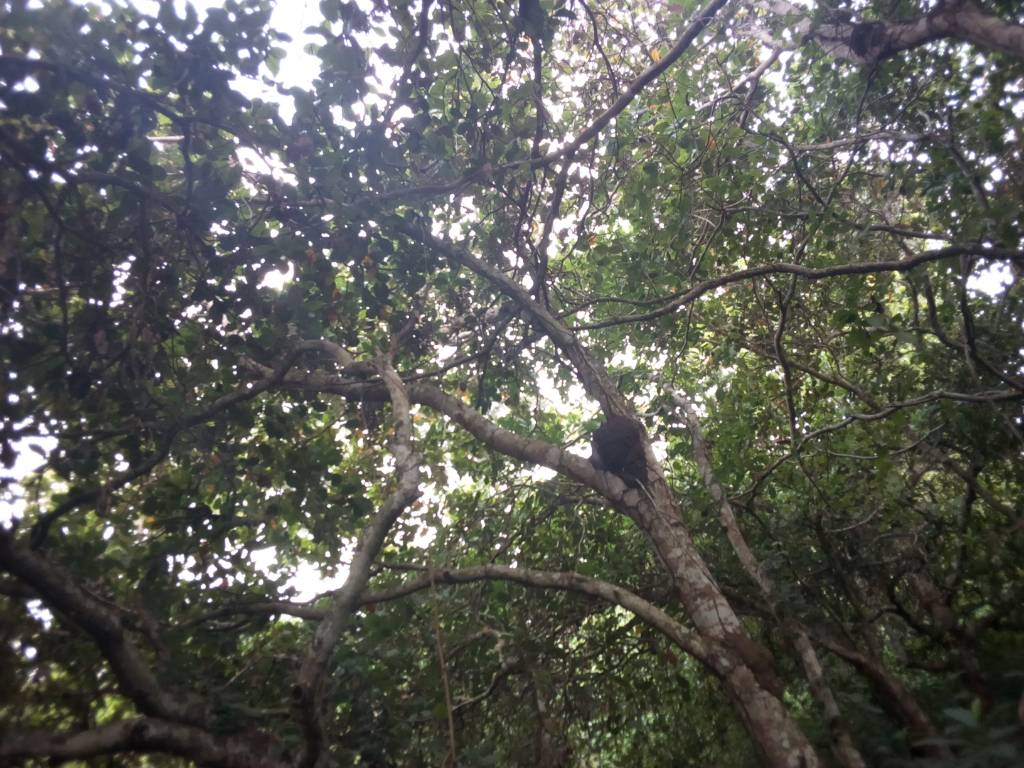Virose: (586, 402, 675, 500)
